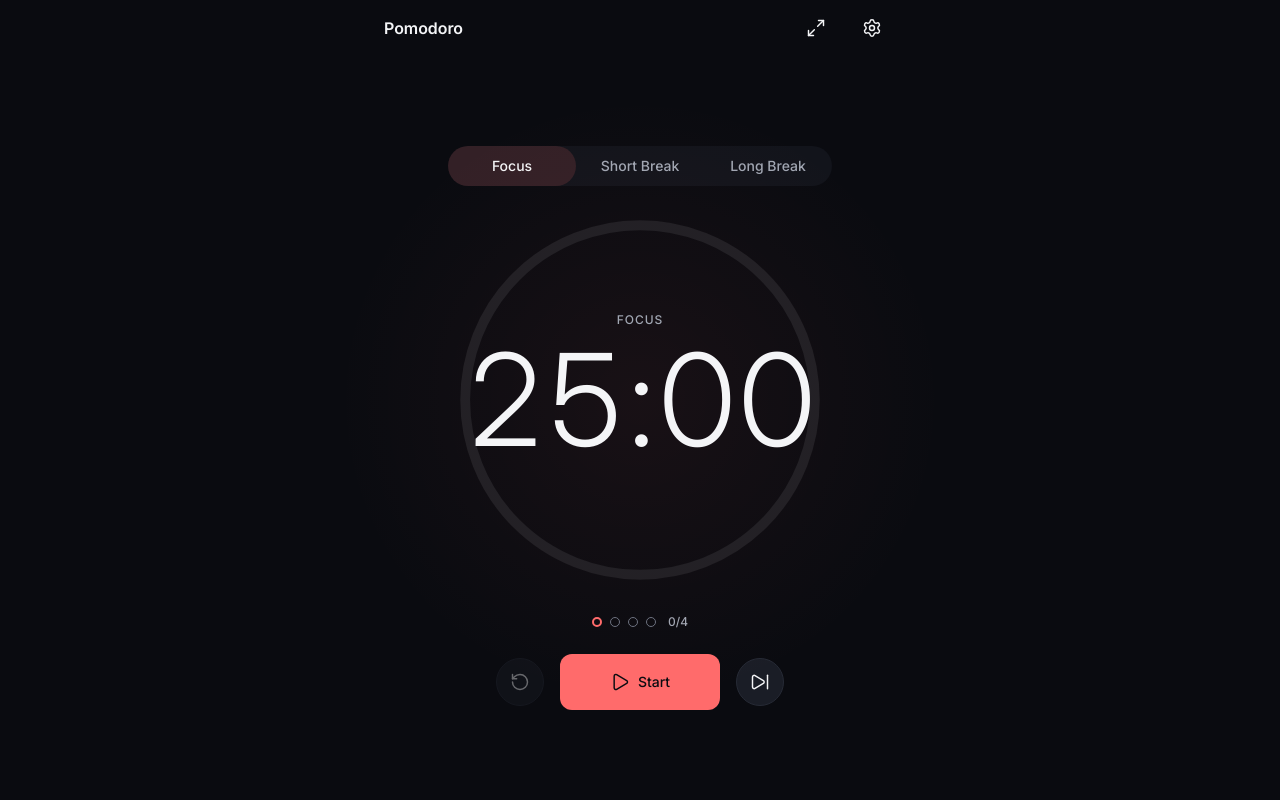
Test: Settings notification status (POMO-AC15, POMO-AC25) › denied: N3 with Sound on, N5 with Sound off (live from the draft), no button
Click the button named "Open settings".
click(872, 28)  # box [848, 4, 896, 52]
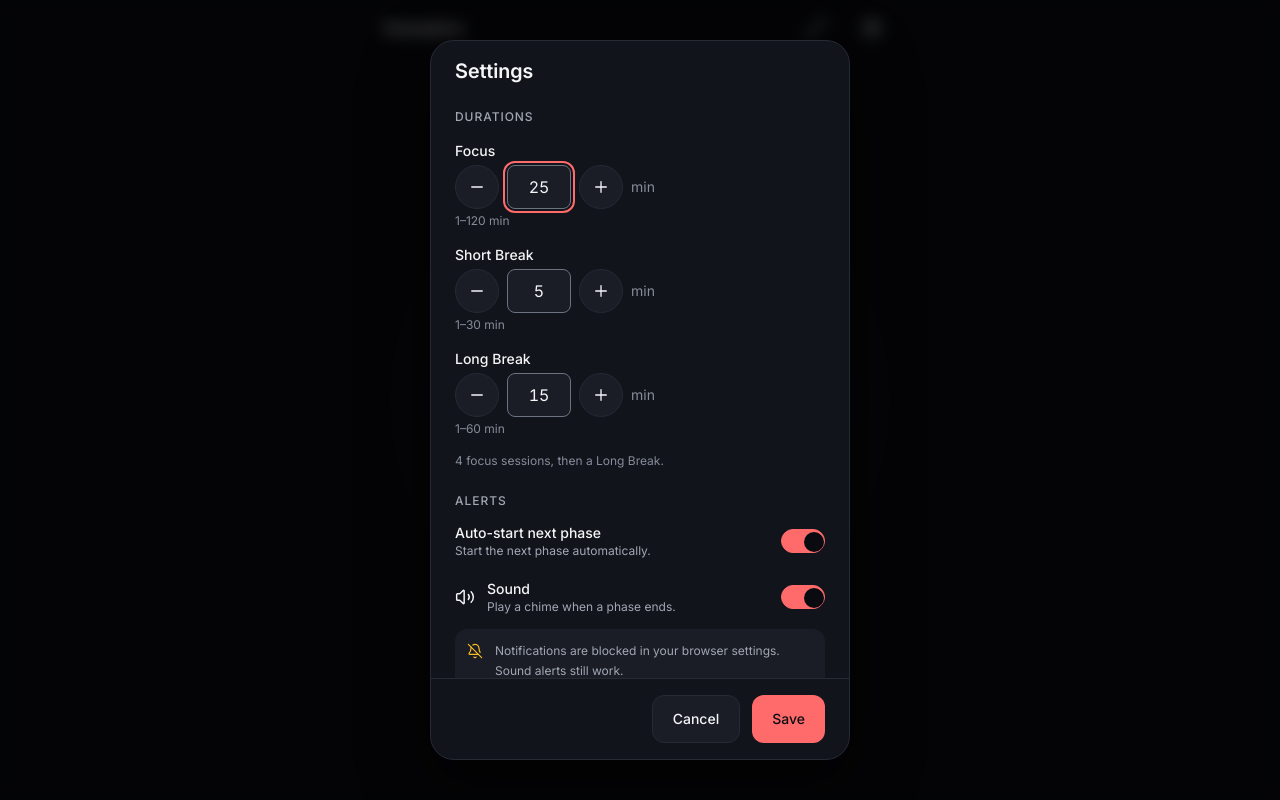
Expected: the text "Notifications are blocked in your browser settings. Sound alerts still work." is shown, [495, 641, 813, 678]
Click the switch labelled "Sound".
click(640, 597)  # box [455, 573, 825, 621]
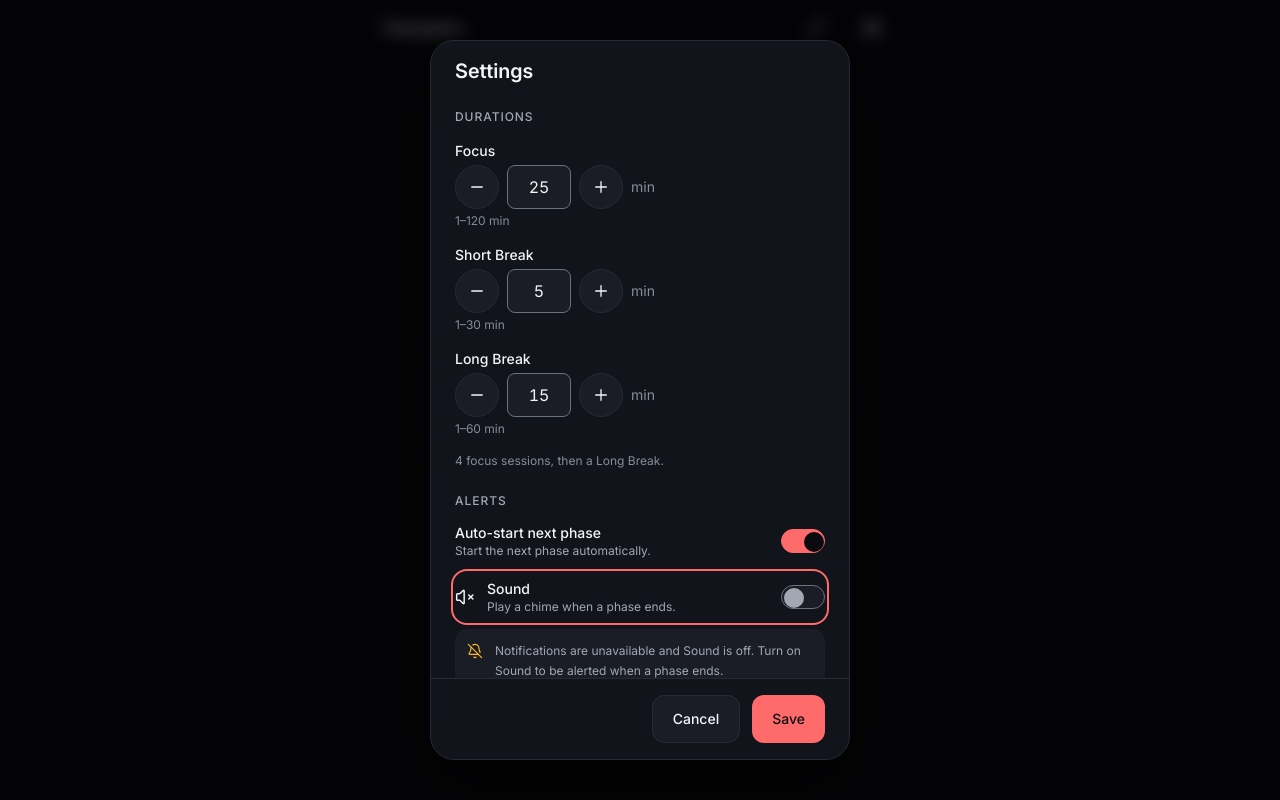
Expected: the text "Notifications are unavailable and Sound is off. Turn on Sound to be alerted when a phase ends." is shown, [495, 643, 801, 678]
Expected: the text "Notifications are blocked in your browser settings. Sound alerts still work." is gone
Click the switch labelled "Sound".
click(640, 597)  # box [455, 573, 825, 621]
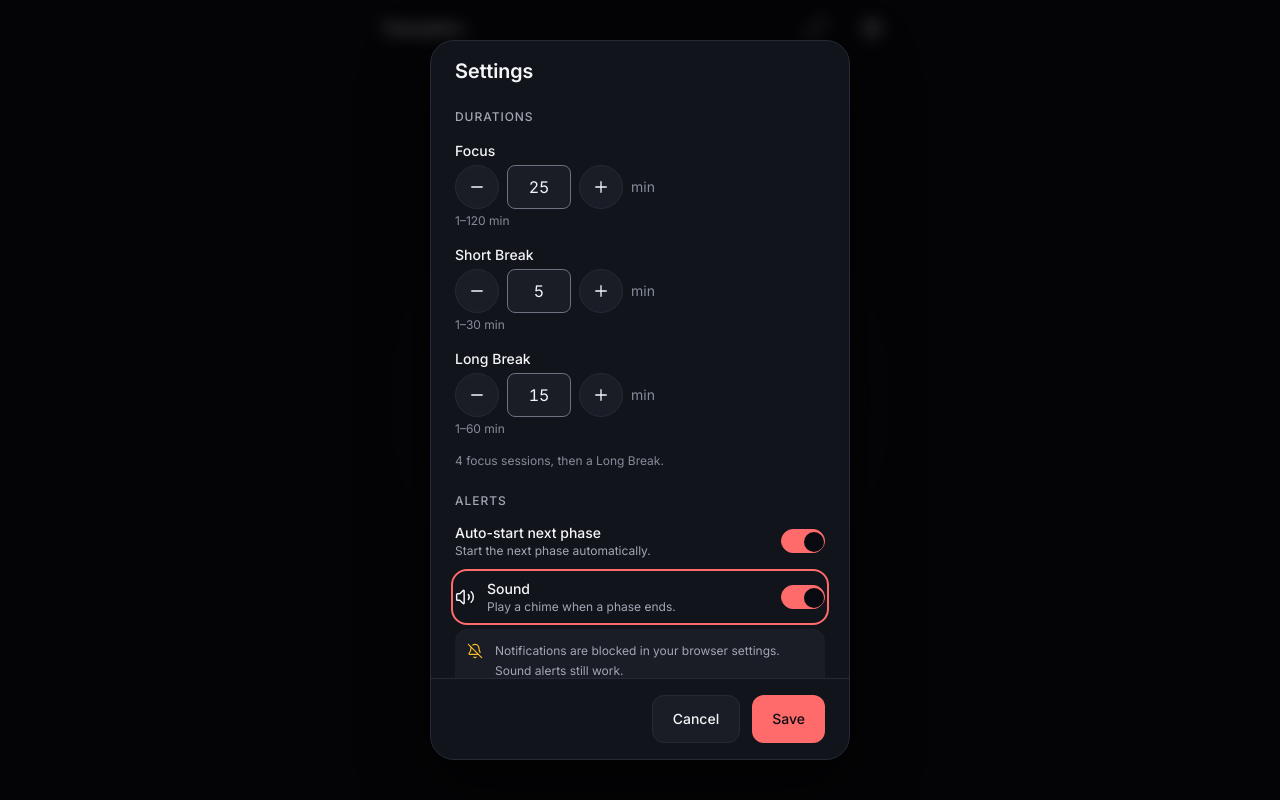
Expected: the text "Notifications are blocked in your browser settings. Sound alerts still work." is shown, [495, 641, 813, 678]
